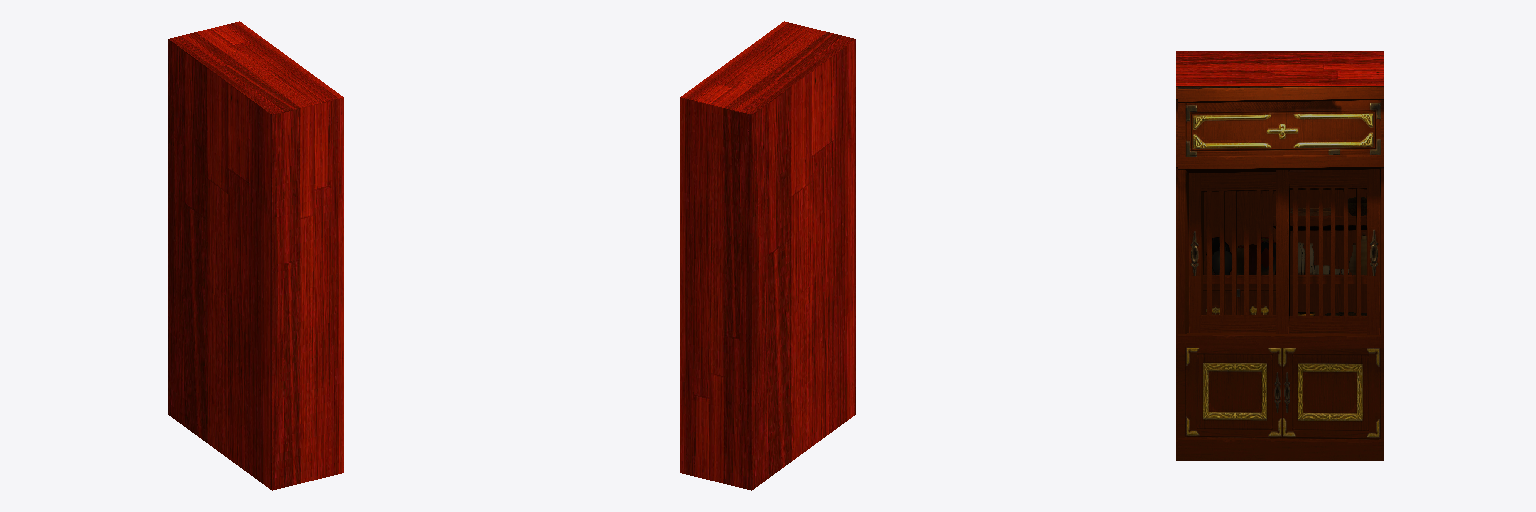
3 renders of one model, left to right at view 1: azimuth 30°, elevation 25°; view 2: azimuth 150°, elevation 25°; view 3: azimuth 270°, elevation 25°, orthographic.
Parts seen in each view (by area): view 1: pCube1; view 2: pCube1; view 3: pCube1.
Part boxes in pixels (bbox=[...]): pCube1: bbox=[168, 21, 343, 490]; pCube1: bbox=[680, 21, 855, 490]; pCube1: bbox=[1176, 51, 1383, 460].
Size of the model in its own units: 2 by 10 by 5.
2 materials, 2 textured.